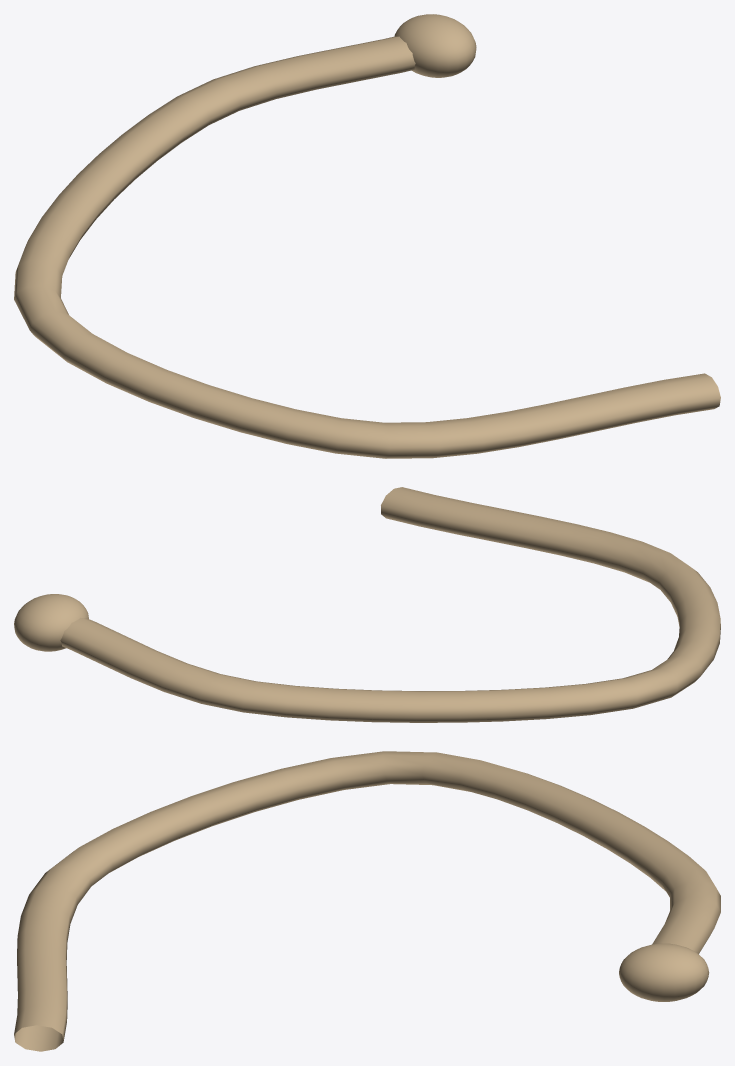
Rendered from right_rib_3.glb.
3 renders of one model, top to bottom at view 1: azimuth 30°, elevation 25°; view 2: azimuth 150°, elevation 25°; view 3: azimuth 270°, elevation 25°, orthographic. The views are drawn at different scales.
Visible parts, largest first — view 1: right_rib_3:costal-body, right_rib_3:head; view 2: right_rib_3:costal-body, right_rib_3:head; view 3: right_rib_3:costal-body, right_rib_3:head.
Part boxes in pixels (bbox=[...]): right_rib_3:costal-body: bbox=[14, 36, 720, 458]; right_rib_3:head: bbox=[394, 14, 476, 77]; right_rib_3:costal-body: bbox=[60, 487, 720, 722]; right_rib_3:head: bbox=[14, 594, 88, 651]; right_rib_3:costal-body: bbox=[14, 751, 720, 1051]; right_rib_3:head: bbox=[619, 943, 709, 1001].
Size of the model in its own units: 0.7872 by 0.1728 by 0.864.
